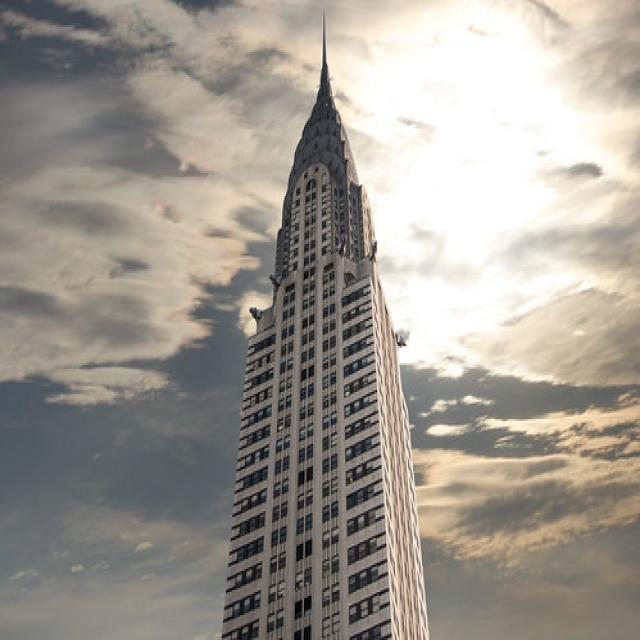building: (220, 80, 431, 640)
